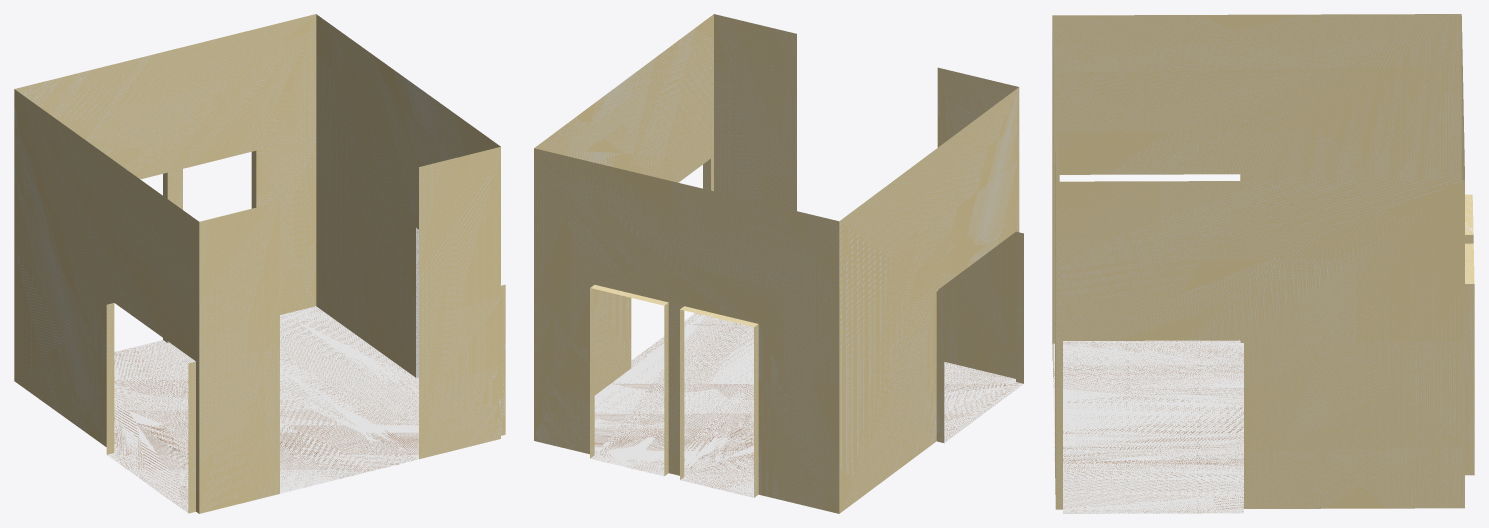
The model's file is COM020.obj.
3 views of the same model, side by side, from view 1: azimuth 30°, elevation 25°; view 2: azimuth 150°, elevation 25°; view 3: azimuth 270°, elevation 25° (orthographic). The views are drawn at different scales.
Parts seen in each view (by area): view 1: Mesh1 COM020 Model; view 2: Mesh1 COM020 Model; view 3: Mesh1 COM020 Model.
Part boxes in pixels (box(x1,y1,x2,y2)): Mesh1 COM020 Model: box(14, 14, 505, 513); Mesh1 COM020 Model: box(534, 14, 1023, 513); Mesh1 COM020 Model: box(1052, 14, 1474, 513).
Bounding box in the file's own units: 4.12 × 3.6 × 4.2.
4 materials, 2 textured.
